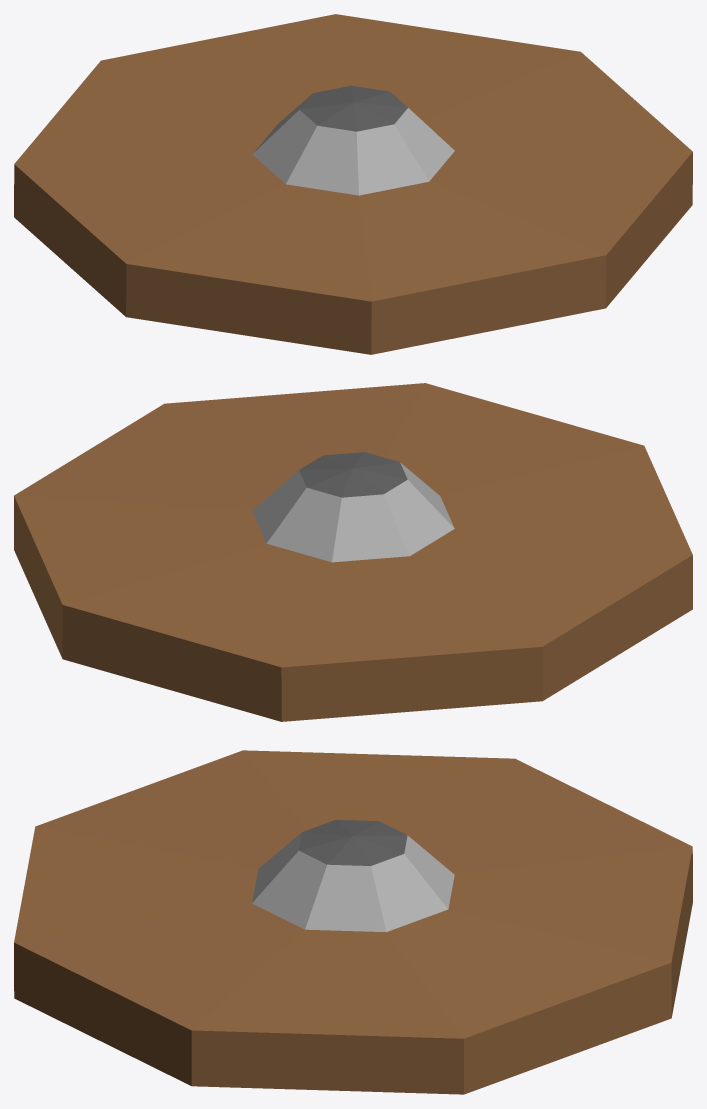
The model's file is Shield_mat.fbx.
3 views of the same model, one above another, from view 1: azimuth 30°, elevation 25°; view 2: azimuth 150°, elevation 25°; view 3: azimuth 270°, elevation 25° (orthographic). The views are drawn at different scales.
Visible parts, largest first — view 1: Shield_mat; view 2: Shield_mat; view 3: Shield_mat.
Boxes of the visible parts, x1,y1,x2,y2 form: Shield_mat: (14, 14, 692, 354); Shield_mat: (14, 383, 692, 721); Shield_mat: (14, 750, 692, 1094).
Bounding box in the file's own units: 0.4828 × 0.0908 × 0.4827.
